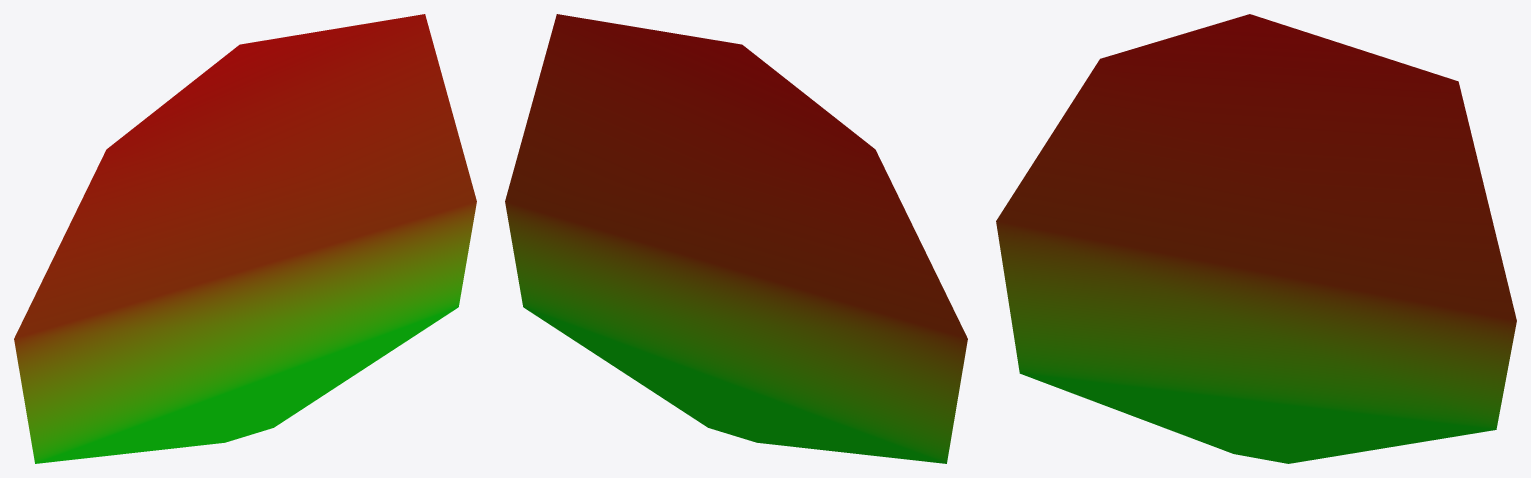
Rendered from Var8_LOD6.fbx.
3 views of the same model, side by side, from view 1: azimuth 30°, elevation 25°; view 2: azimuth 150°, elevation 25°; view 3: azimuth 330°, elevation 25° (orthographic). The views are drawn at different scales.
Parts seen in each view (by area): view 1: _7hop_Var8_LOD6; view 2: _7hop_Var8_LOD6; view 3: _7hop_Var8_LOD6.
Boxes of the visible parts, bbox=[...] form: _7hop_Var8_LOD6: bbox=[14, 14, 476, 463]; _7hop_Var8_LOD6: bbox=[505, 14, 967, 463]; _7hop_Var8_LOD6: bbox=[996, 14, 1516, 463].
Bounding box in the file's own units: 67.58 × 55.04 × 4.16e-06.
